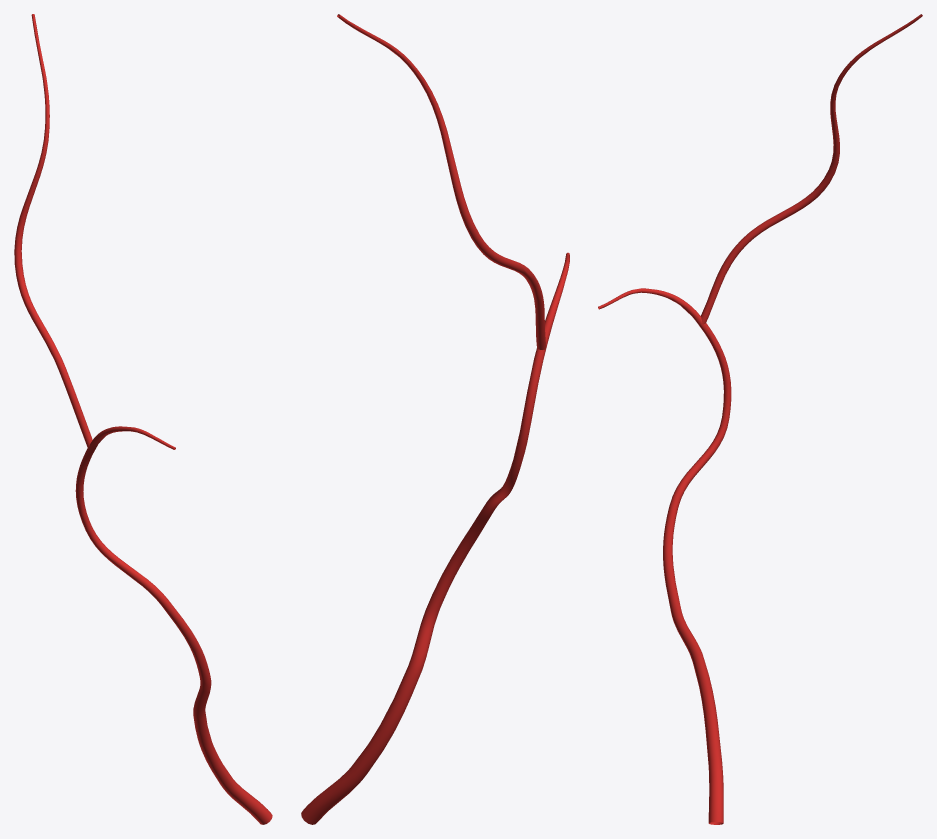
File: circulatorio-superficial-temporal-veins-r.glb
3 renders of one model, left to right at view 1: azimuth 30°, elevation 25°; view 2: azimuth 150°, elevation 25°; view 3: azimuth 270°, elevation 25°, orthographic. The views are drawn at different scales.
Visible parts, largest first — view 1: Superficial temporal veins.r; view 2: Superficial temporal veins.r; view 3: Superficial temporal veins.r.
Boxes of the visible parts, <box> form: Superficial temporal veins.r: <box>14,14,272,824</box>; Superficial temporal veins.r: <box>301,14,569,824</box>; Superficial temporal veins.r: <box>598,14,922,824</box>.
Bounding box in the file's own units: 0.0307 × 0.1095 × 0.0429.
